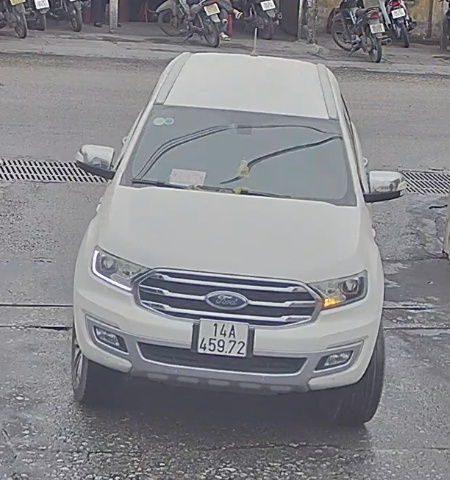vehicle plate: (192, 311, 250, 359)
